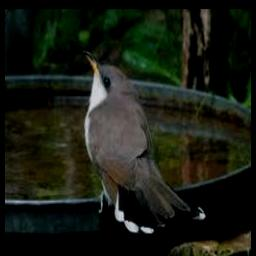Cuckoo: (80, 50, 206, 233)
